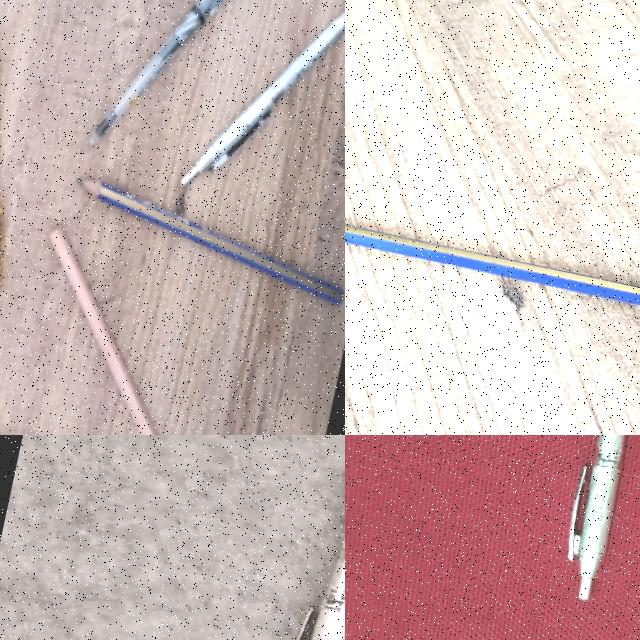pen: (345, 225, 639, 305), (85, 0, 222, 146)
pencil: (67, 176, 345, 303), (49, 226, 157, 435)
signature pen: (181, 13, 345, 185), (0, 28, 46, 332), (567, 435, 625, 599), (297, 540, 344, 639)
